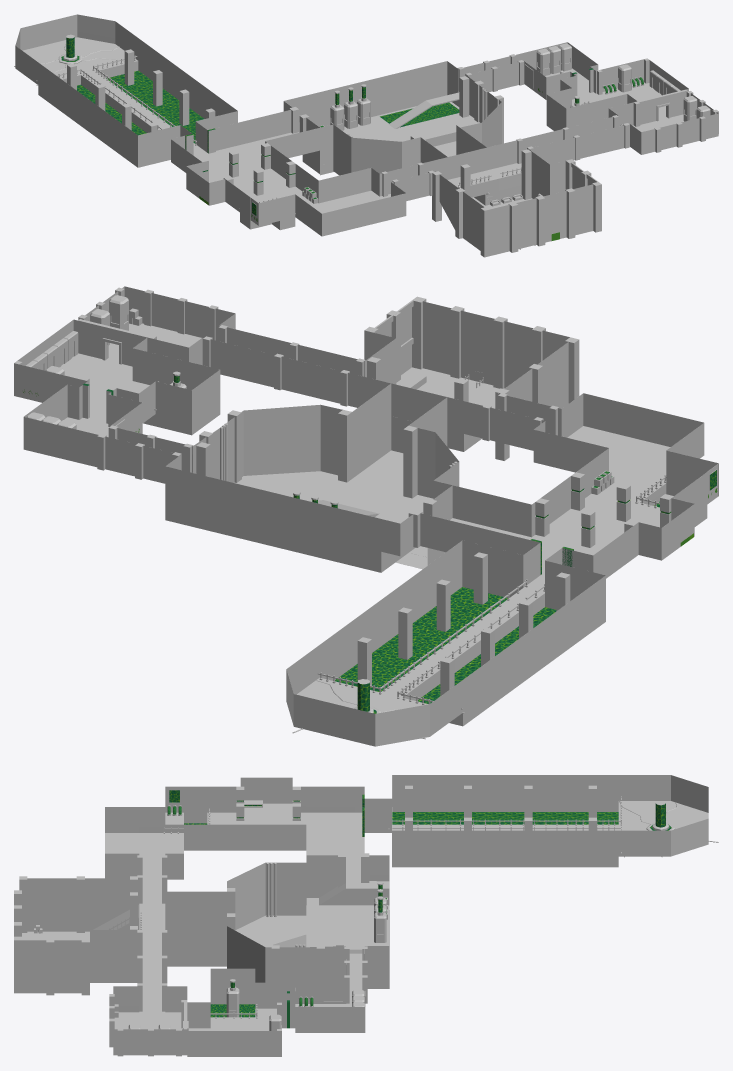
File: FINAL MAP .fbx
3 renders of one model, top to bottom at view 1: azimuth 30°, elevation 25°; view 2: azimuth 150°, elevation 25°; view 3: azimuth 270°, elevation 25°, orthographic. The views are drawn at different scales.
Parts seen in each view (by area): view 1: Icosphere; view 2: Icosphere; view 3: Icosphere.
Part boxes in pixels (x1,y1,x2,y2): Icosphere: [14, 14, 718, 257]; Icosphere: [14, 286, 718, 746]; Icosphere: [14, 775, 718, 1056].
Bounding box in the file's own units: 4019 × 499 × 4665.
